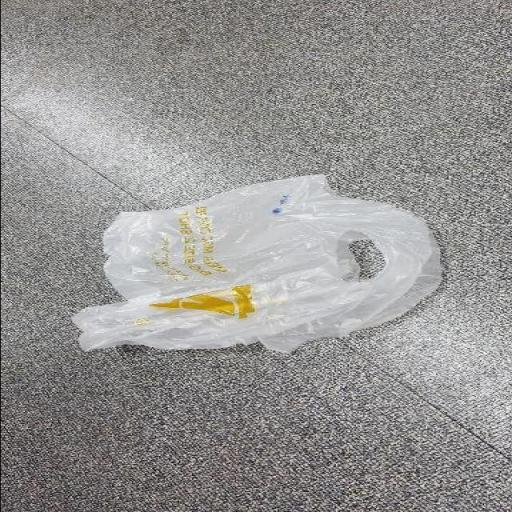plastic-bag: (69, 171, 443, 356)
